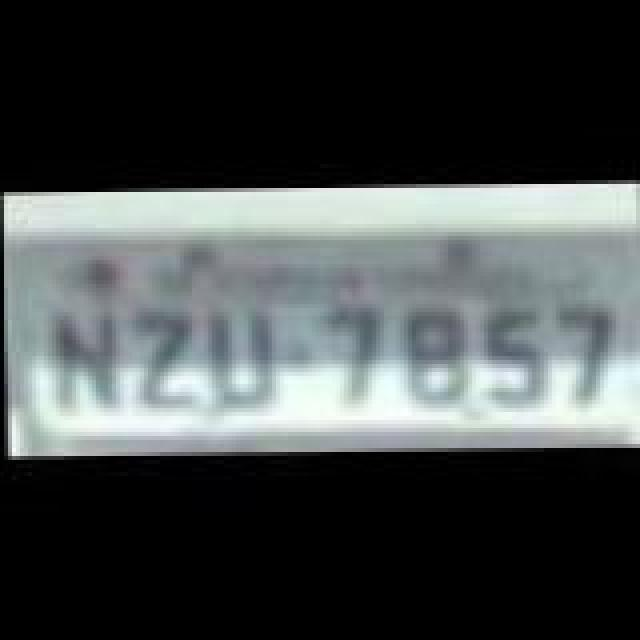5: (476, 296, 548, 408)
7: (544, 298, 616, 414), (322, 300, 390, 404)
8: (394, 294, 470, 414)
N: (48, 300, 120, 420)
U: (202, 306, 270, 418)
Z: (130, 302, 198, 406)
